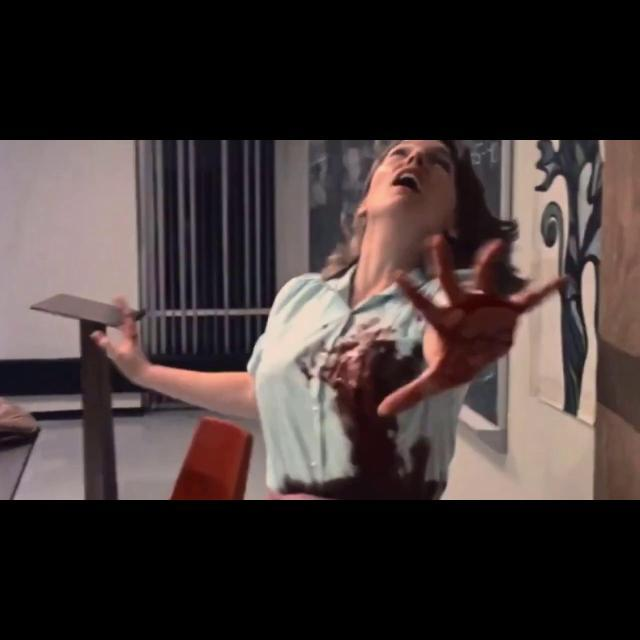blood: (285, 266, 560, 500)
